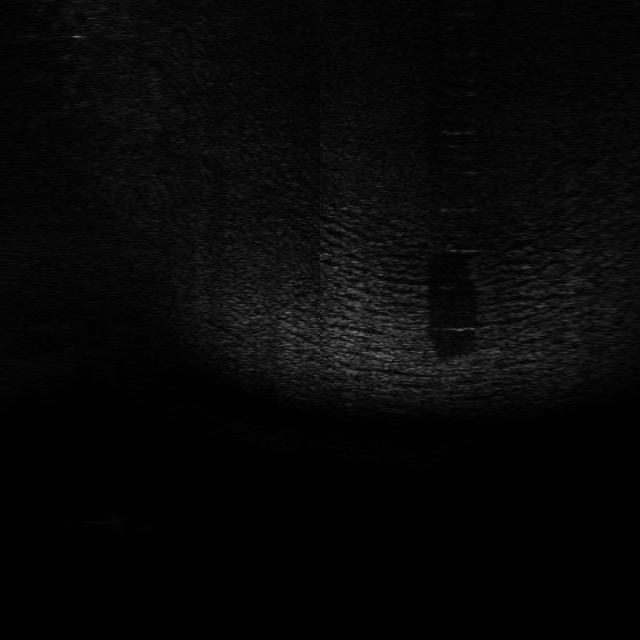cube: (433, 354, 481, 385)
